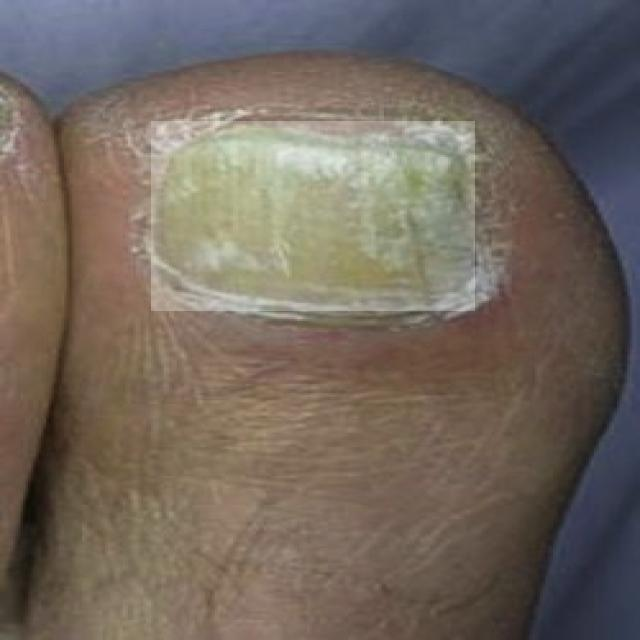diabetes: (151, 122, 475, 311)
